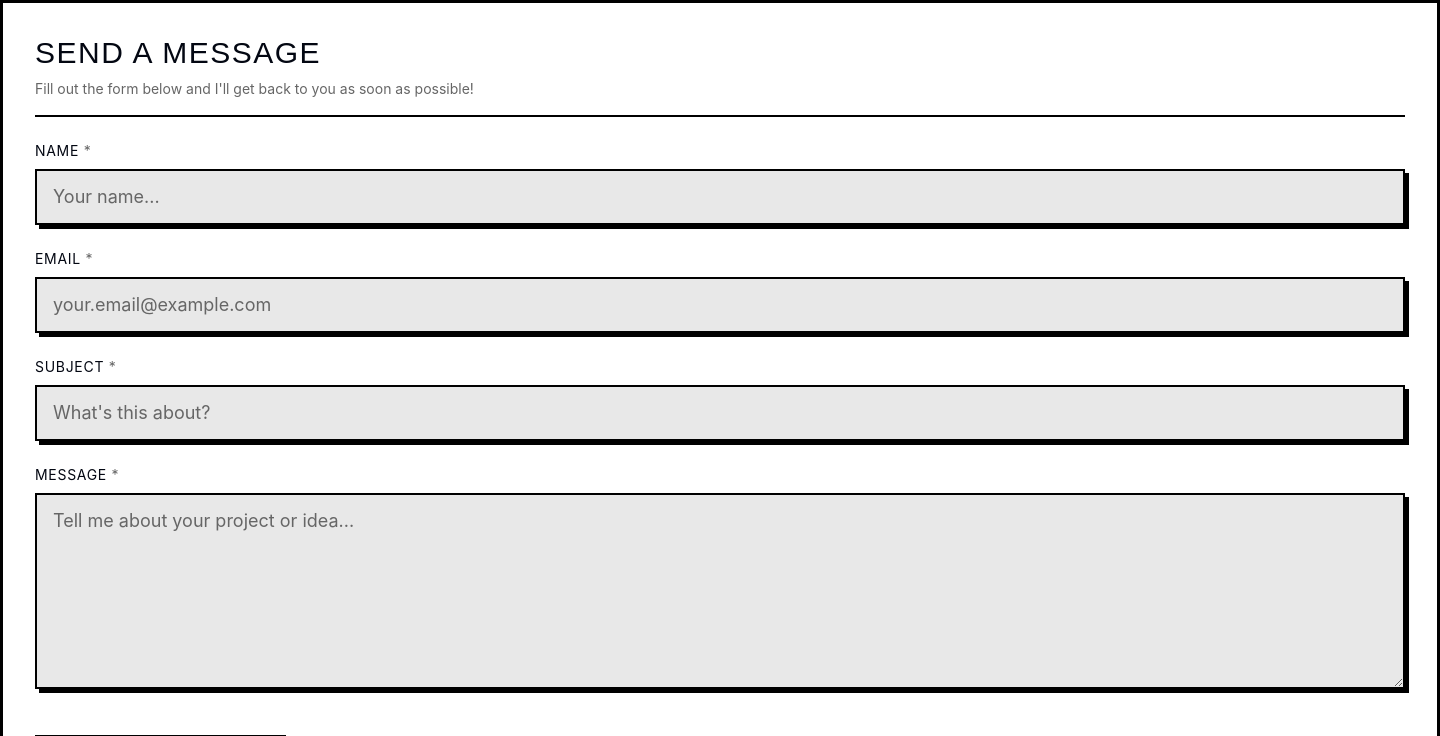
Scenario: ContactForm › Validation › shows error when name is empty
Click the field labelled "Name *": (720, 197) [35,169,1405,225]
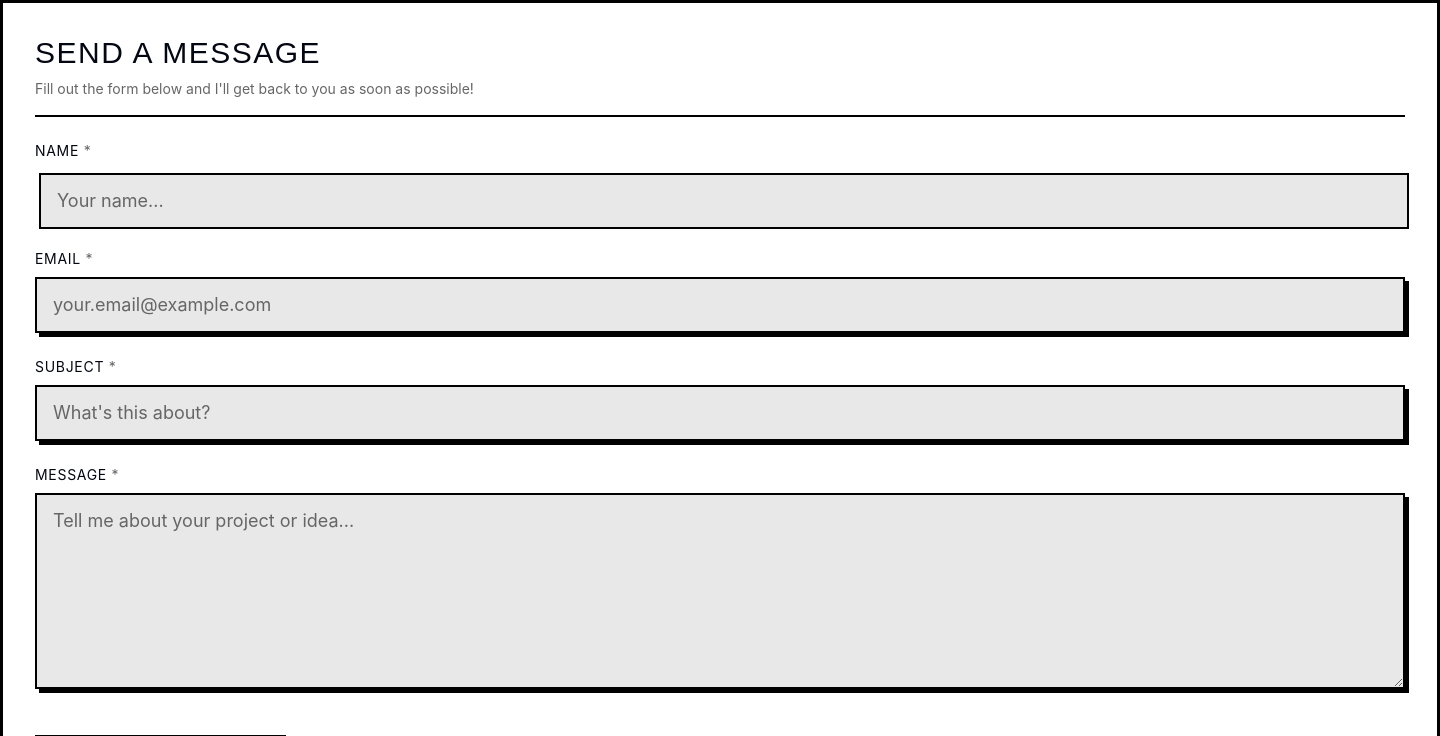
Press Tab
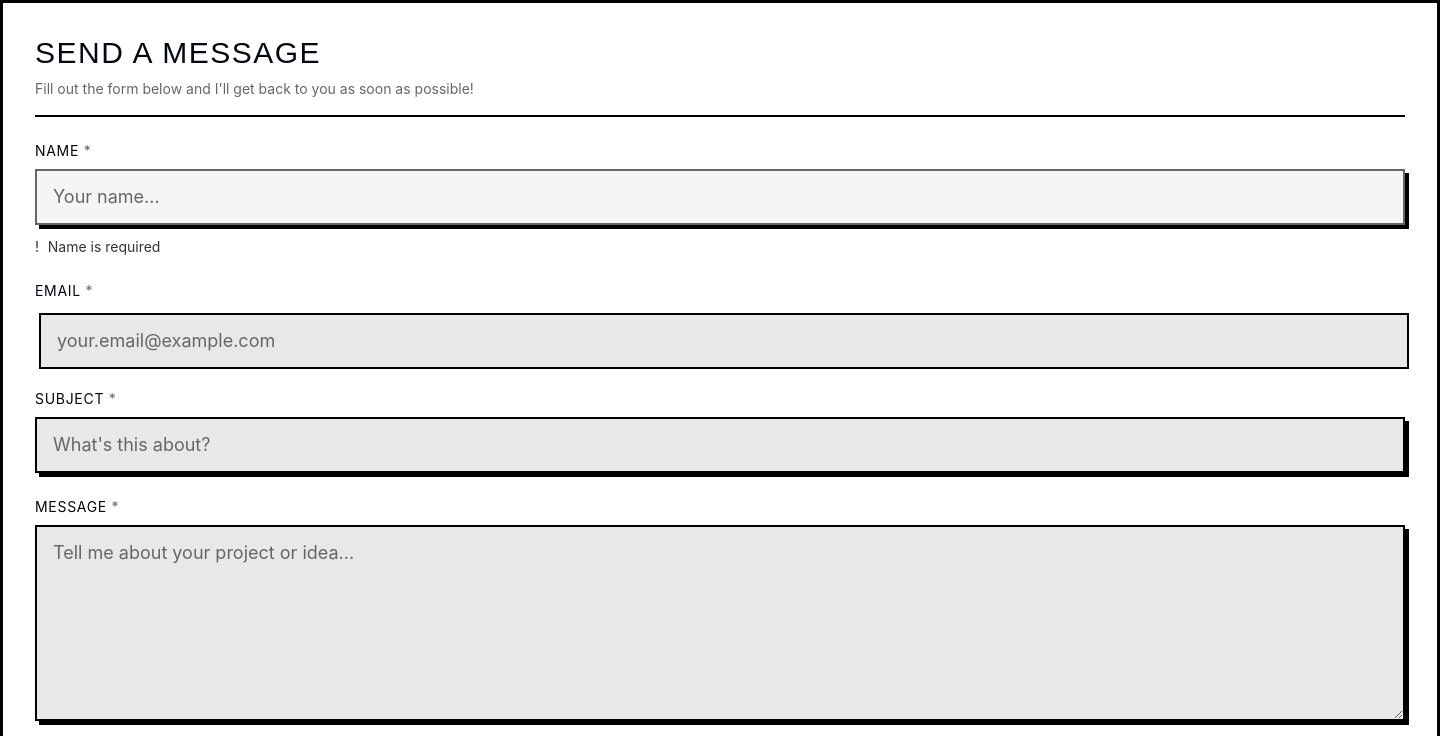
expect the text "Name is required" is shown: met, box [48,237,160,257]
